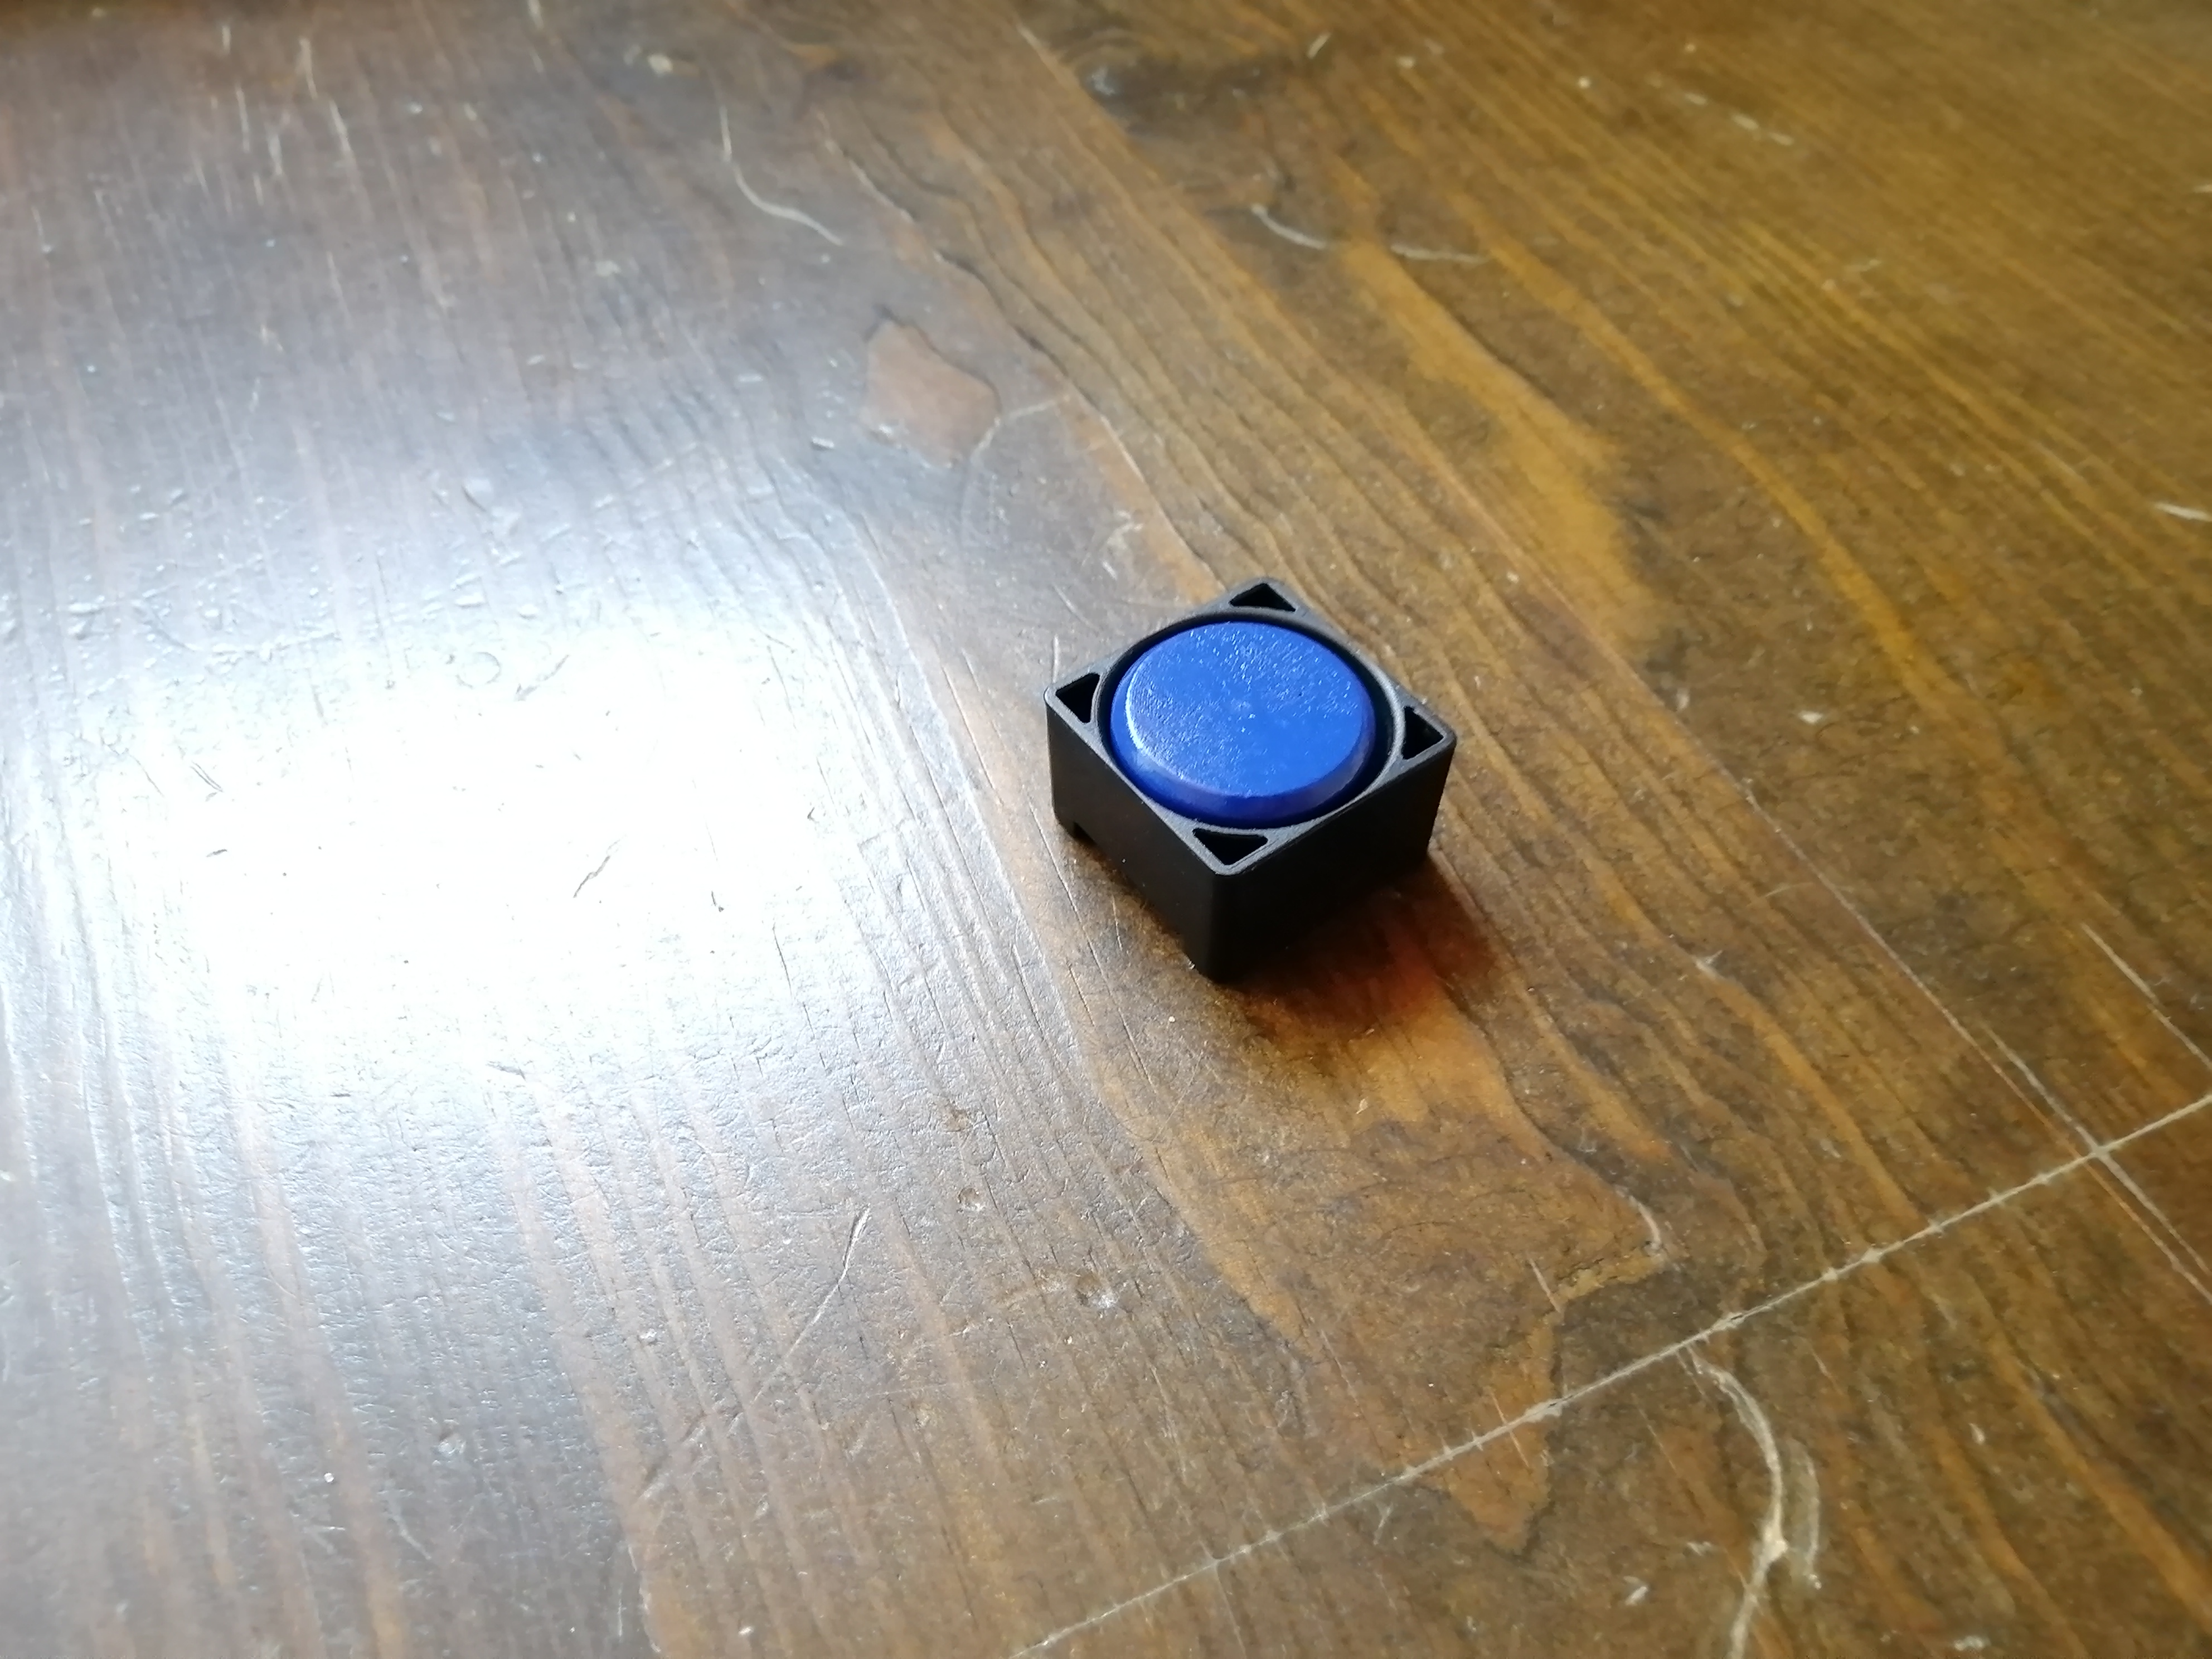Behaelter: (1047, 587, 1454, 981)
WerkStueck: (1116, 613, 1381, 823)
